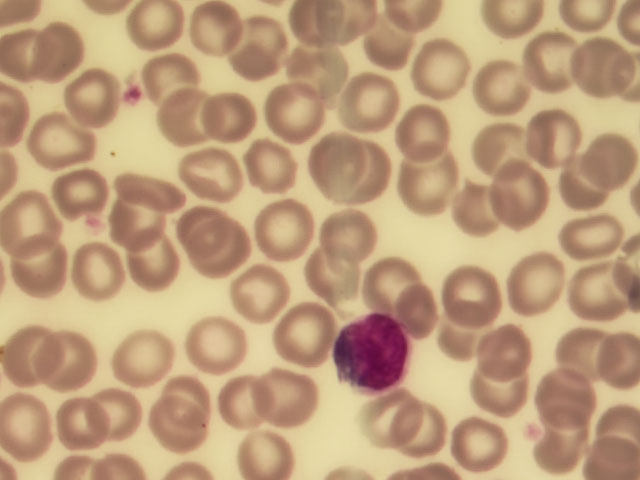Platelets: (121, 77, 145, 115)
RBC: (33, 21, 92, 80), (61, 68, 120, 127), (32, 109, 91, 168), (50, 162, 109, 221), (69, 251, 128, 310), (18, 242, 77, 301), (1, 184, 60, 243), (6, 321, 65, 380), (39, 338, 98, 397), (111, 326, 170, 385), (94, 382, 153, 441), (59, 393, 118, 452), (150, 403, 209, 462), (157, 368, 216, 427), (186, 313, 245, 372), (235, 258, 294, 317), (197, 222, 256, 281), (162, 197, 221, 256), (121, 235, 180, 294), (112, 196, 171, 255), (125, 168, 184, 227), (181, 145, 240, 204), (161, 91, 220, 150), (189, 89, 248, 148), (148, 51, 207, 110), (190, 3, 249, 62), (230, 19, 289, 78), (260, 83, 319, 142), (283, 41, 342, 100), (335, 77, 394, 136), (366, 9, 425, 68), (416, 40, 475, 99), (469, 55, 528, 114), (512, 33, 571, 92), (561, 35, 620, 94), (526, 108, 585, 167), (476, 116, 535, 175), (395, 104, 454, 163), (402, 152, 461, 211), (340, 143, 399, 202), (303, 132, 362, 191), (262, 196, 321, 255), (243, 136, 302, 195), (315, 200, 374, 259), (310, 244, 369, 303), (370, 254, 429, 313), (385, 276, 444, 335), (448, 265, 507, 324), (445, 297, 504, 356), (505, 255, 564, 314), (565, 210, 624, 269), (561, 147, 620, 206), (581, 130, 640, 189), (570, 258, 629, 317), (556, 326, 615, 385), (581, 340, 640, 399), (540, 365, 599, 424), (470, 361, 529, 420), (469, 316, 528, 375), (396, 399, 455, 458), (367, 391, 426, 450), (264, 372, 323, 431), (222, 372, 281, 431), (272, 303, 331, 362), (245, 421, 304, 480), (449, 415, 508, 474), (535, 415, 594, 474), (1, 393, 59, 452), (130, 1, 189, 59), (290, 1, 349, 59), (588, 434, 640, 480)
WBC: (331, 311, 417, 391)
